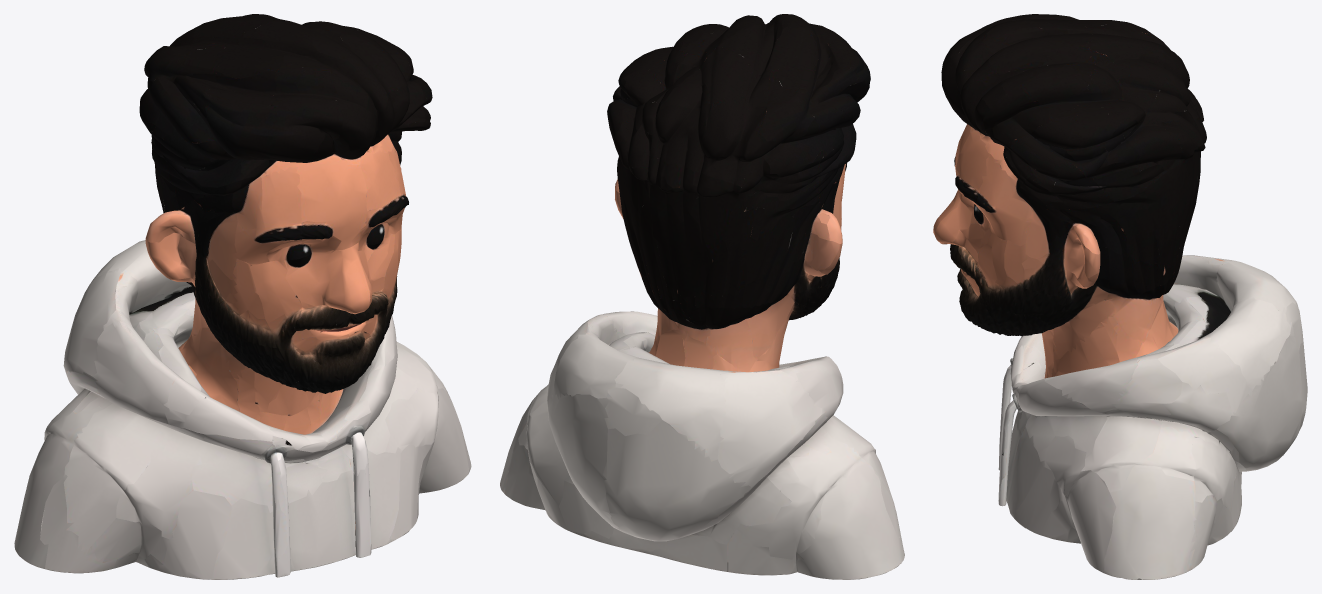
File: avatar.glb
3 renders of one model, left to right at view 1: azimuth 30°, elevation 25°; view 2: azimuth 150°, elevation 25°; view 3: azimuth 270°, elevation 25°, orthographic. The views are drawn at different scales.
Parts seen in each view (by area): view 1: mesh_0; view 2: mesh_0; view 3: mesh_0.
Boxes of the visible parts, box(x1,y1,x2,y2) form: mesh_0: box(14, 14, 471, 579); mesh_0: box(500, 14, 904, 579); mesh_0: box(933, 14, 1307, 579).
Bounding box in the file's own units: 1.71 × 1.9 × 1.43.
Materials: 1 (1 with a texture image).
